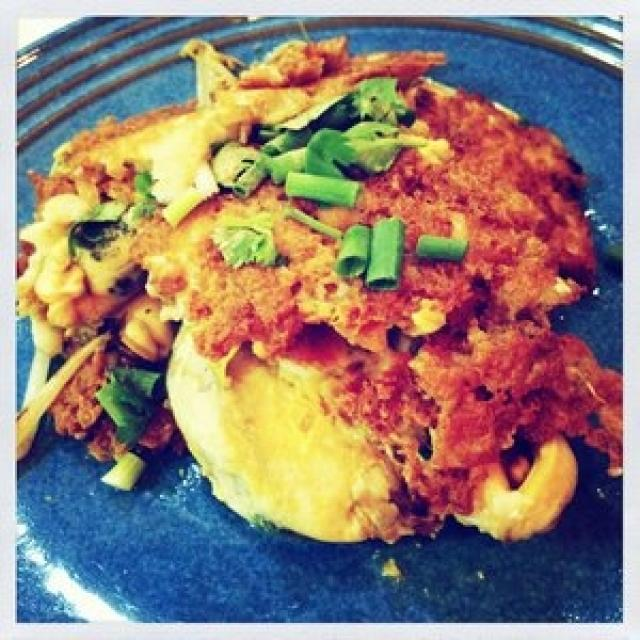炸货点心: (26, 38, 604, 580)
蛋糕甜品: (26, 38, 604, 580)
